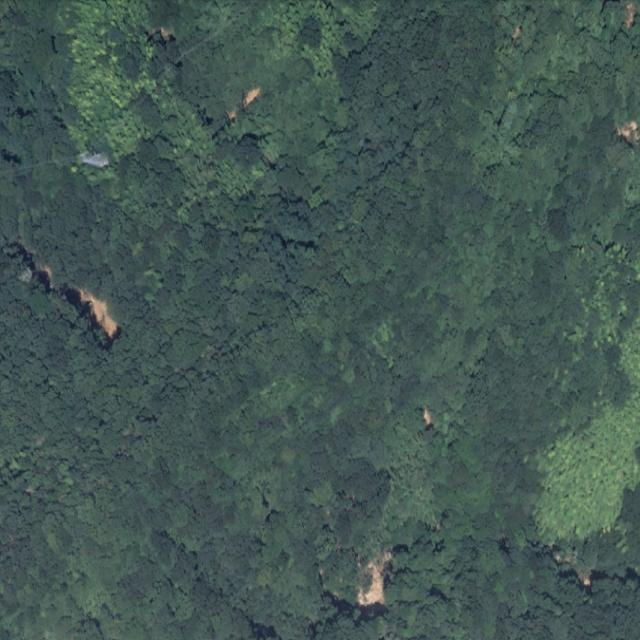landslide: (76, 289, 118, 338)
